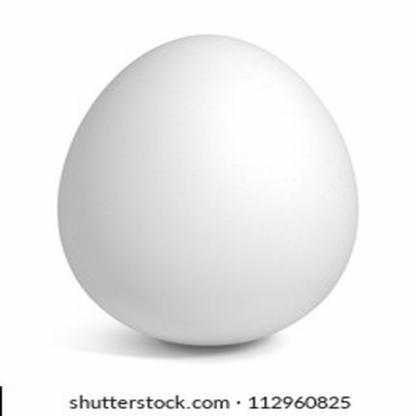egg: (51, 30, 366, 352)
